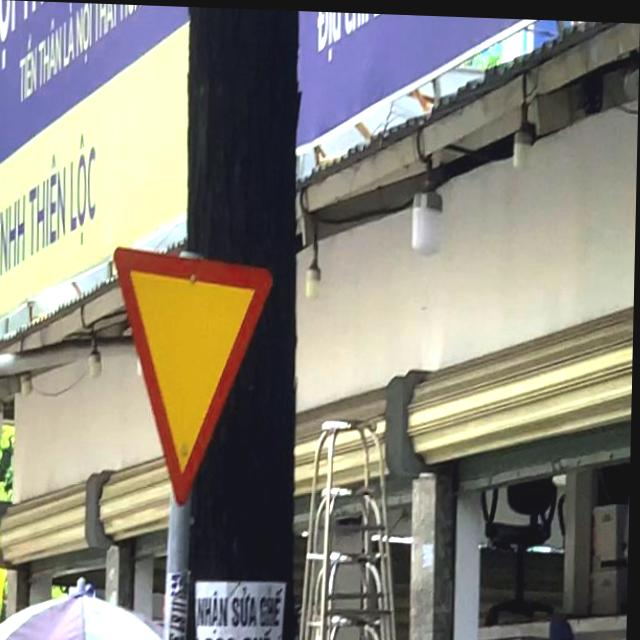Giao nhau voi duong uu tien: (110, 243, 275, 510)
